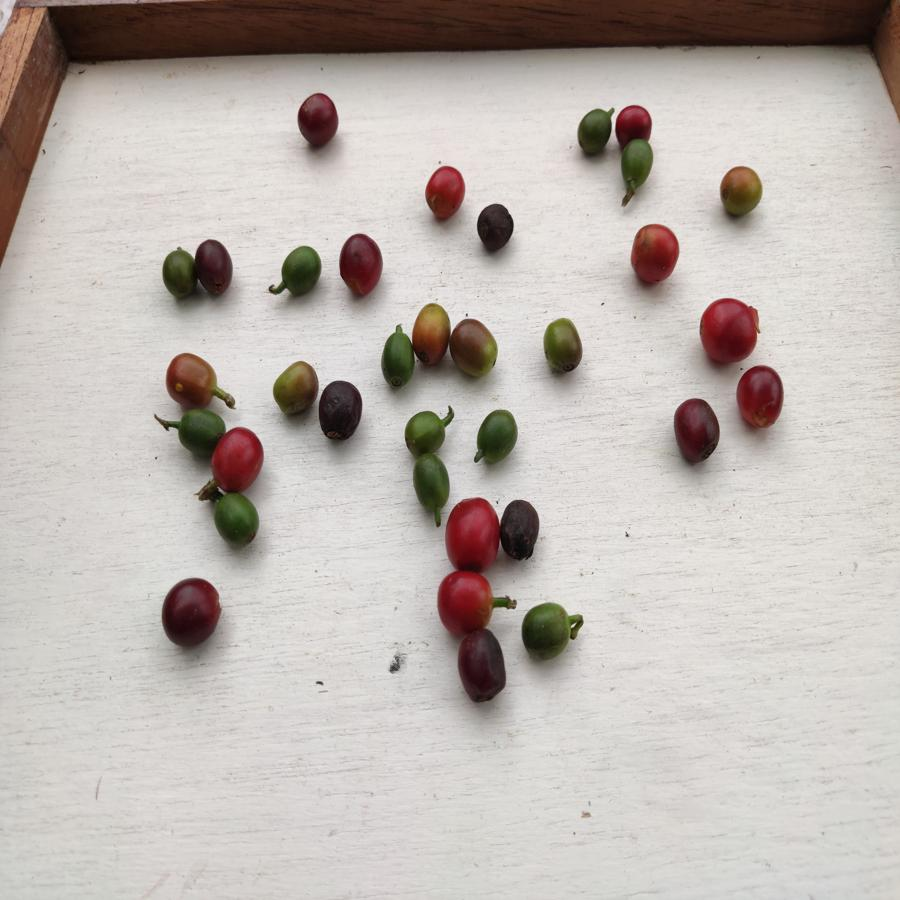Inmaduro: (520, 600, 578, 663), (210, 492, 263, 544), (473, 408, 521, 463), (276, 244, 324, 298), (173, 408, 224, 453), (411, 454, 451, 510), (378, 329, 413, 391), (402, 409, 448, 455), (574, 107, 613, 155), (620, 138, 654, 193), (163, 248, 196, 300)
Maduro: (698, 297, 761, 367), (446, 495, 498, 573), (436, 569, 498, 631), (212, 426, 268, 491), (627, 223, 681, 287), (733, 361, 785, 426), (424, 165, 468, 221), (614, 104, 653, 140)
Pinton: (449, 315, 499, 381), (268, 357, 317, 420), (539, 318, 588, 378), (165, 352, 218, 405), (412, 302, 451, 369), (719, 164, 763, 221)
Sobremaduro: (158, 576, 223, 653), (458, 632, 508, 706), (672, 398, 722, 465), (319, 376, 363, 446), (295, 89, 343, 150), (338, 235, 384, 298), (498, 498, 543, 562), (193, 238, 236, 296), (476, 203, 513, 253)
